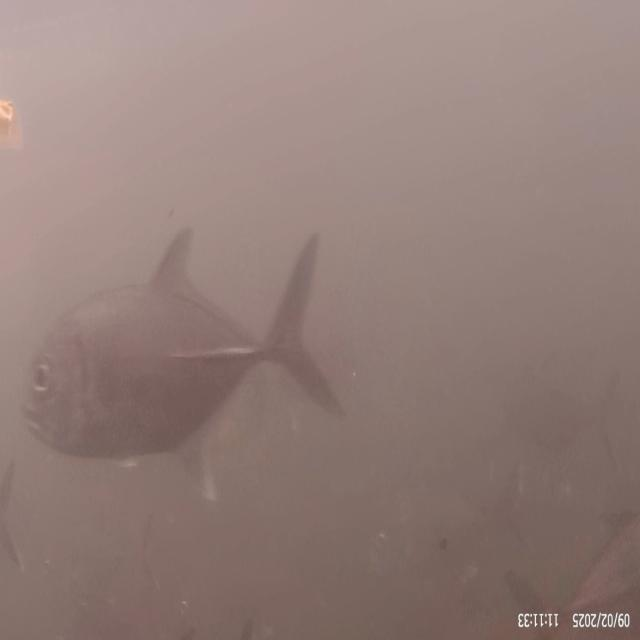ikan: (19, 222, 346, 468)
